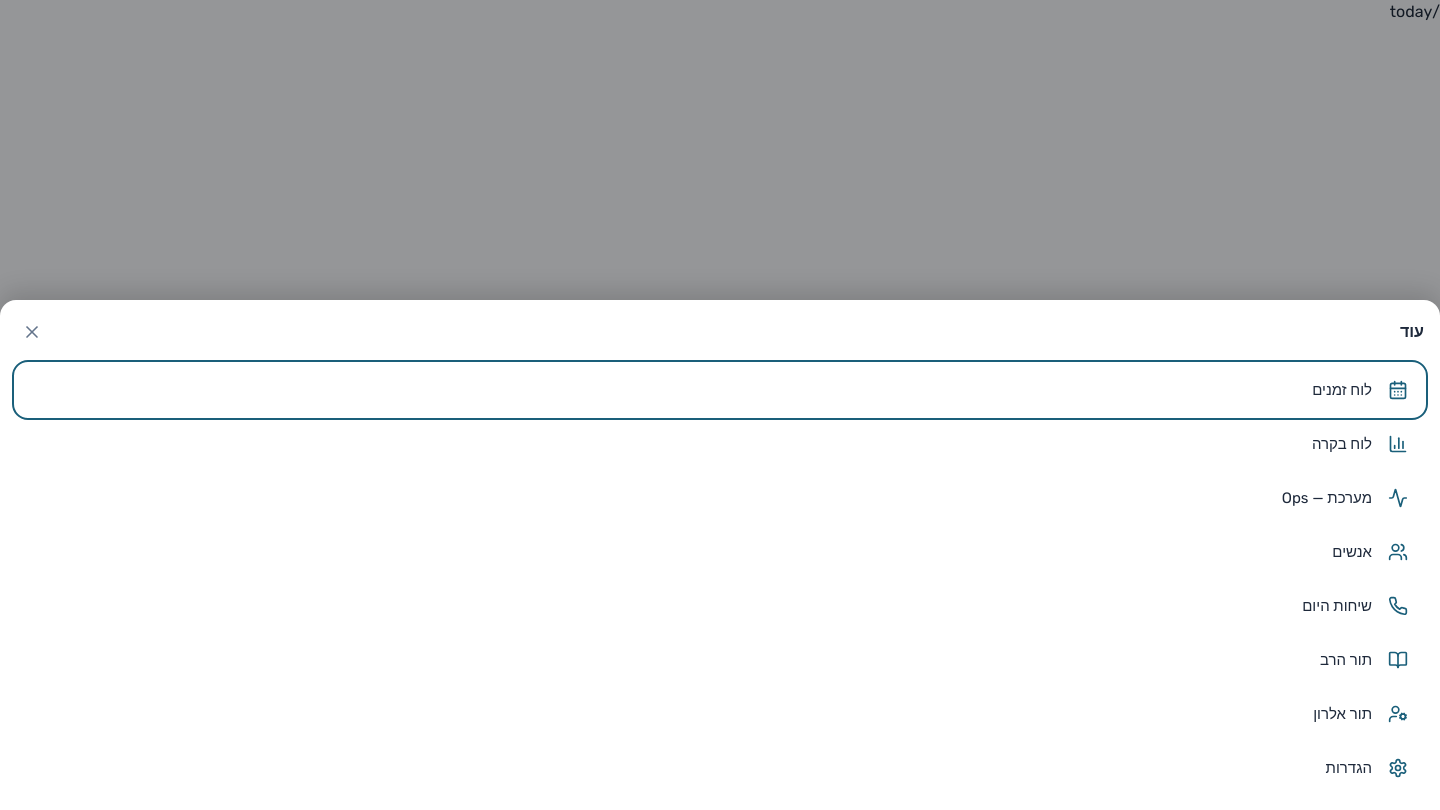
Test: MoreSheet › navigates to a previously-hidden page
Click the button "אנשים": (1352, 552) [16, 526, 1424, 578]
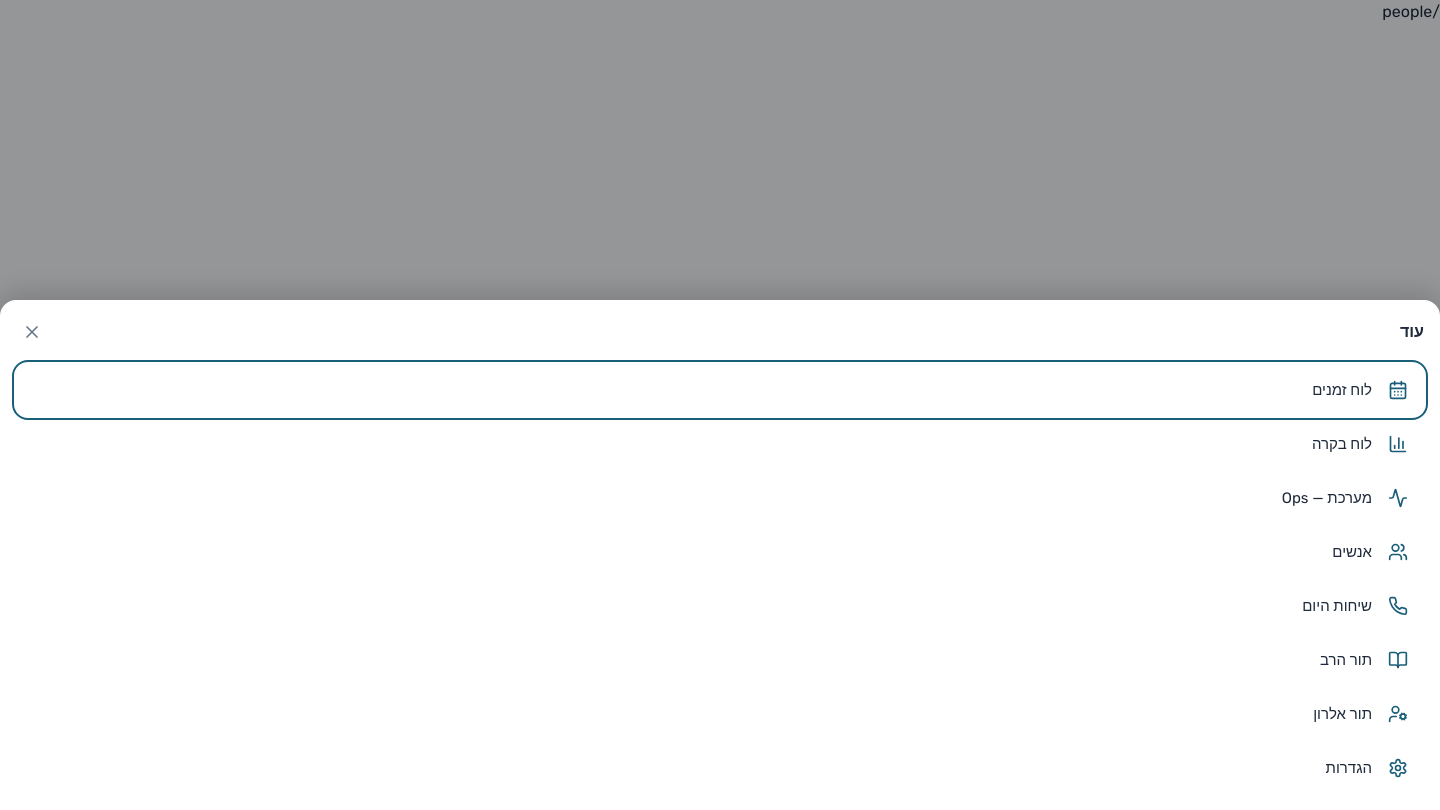
Expected: the text with test id "probe" reads "/people", [1382, 2, 1439, 21]
